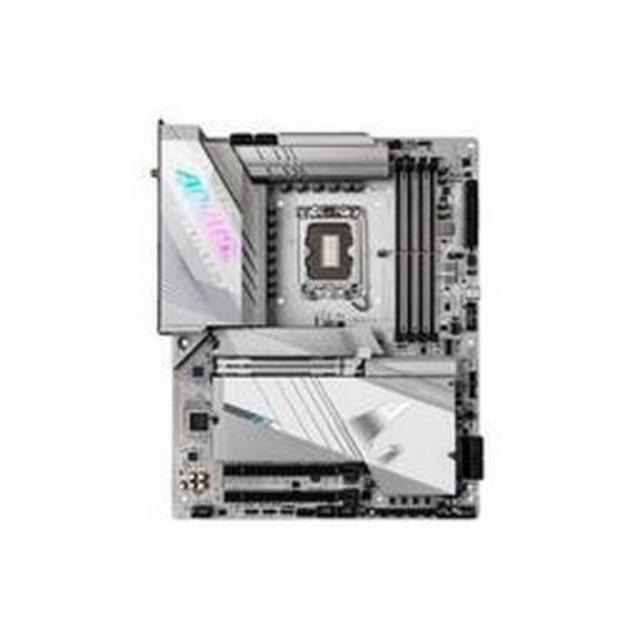Mainboard: (155, 127, 480, 518)
